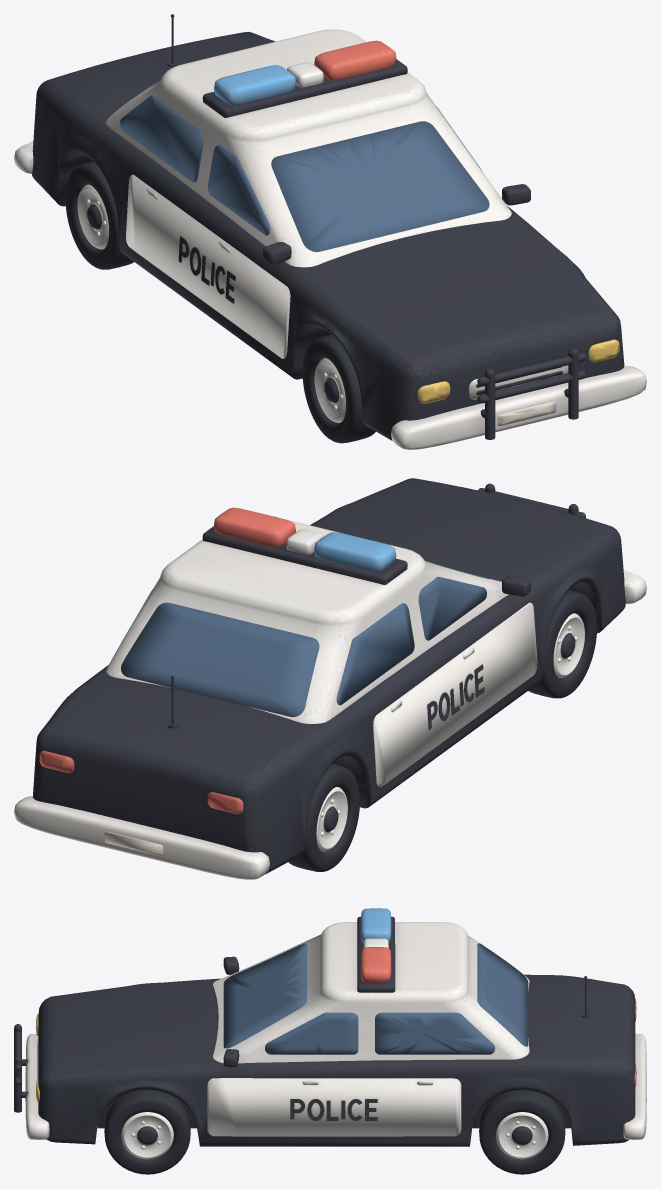
The model's file is police.glb.
3 views of the same model, one above another, from view 1: azimuth 30°, elevation 25°; view 2: azimuth 150°, elevation 25°; view 3: azimuth 270°, elevation 25° (orthographic). The views are drawn at different scales.
Visible parts, largest first — view 1: police-car_body, police-car_windows, police-car_wheel_fr, police-car_wheel_rr; view 2: police-car_body, police-car_windows, police-car_wheel_rr, police-car_wheel_fr; view 3: police-car_body, police-car_windows, police-car_wheel_fl, police-car_wheel_rl.
Part boxes in pixels (box(x1,y1,x2,y2)): police-car_body: box(14, 14, 646, 449); police-car_windows: box(119, 80, 489, 252); police-car_wheel_fr: box(302, 334, 375, 443); police-car_wheel_rr: box(65, 161, 133, 269); police-car_body: box(14, 478, 646, 879); police-car_windows: box(121, 560, 489, 717); police-car_wheel_rr: box(288, 763, 359, 871); police-car_wheel_fr: box(528, 590, 596, 698); police-car_body: box(14, 908, 646, 1146); police-car_windows: box(223, 943, 528, 1054); police-car_wheel_fl: box(104, 1090, 190, 1174); police-car_wheel_rl: box(479, 1090, 565, 1174).
Bounding box in the file's own units: 1.9 × 1.66 × 4.98.
Materials: 5 (1 with a texture image).
